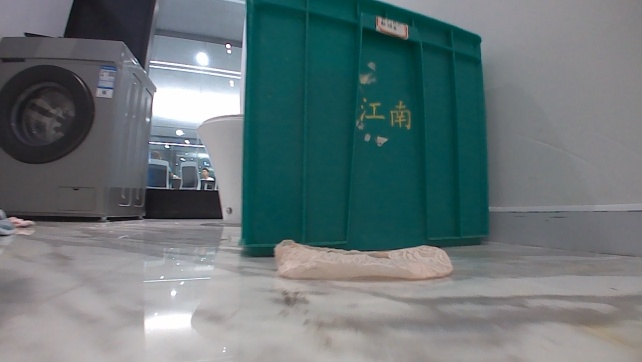socks: (268, 238, 459, 281)
toilet: (194, 111, 246, 225)
washing_machine: (0, 32, 158, 226)
